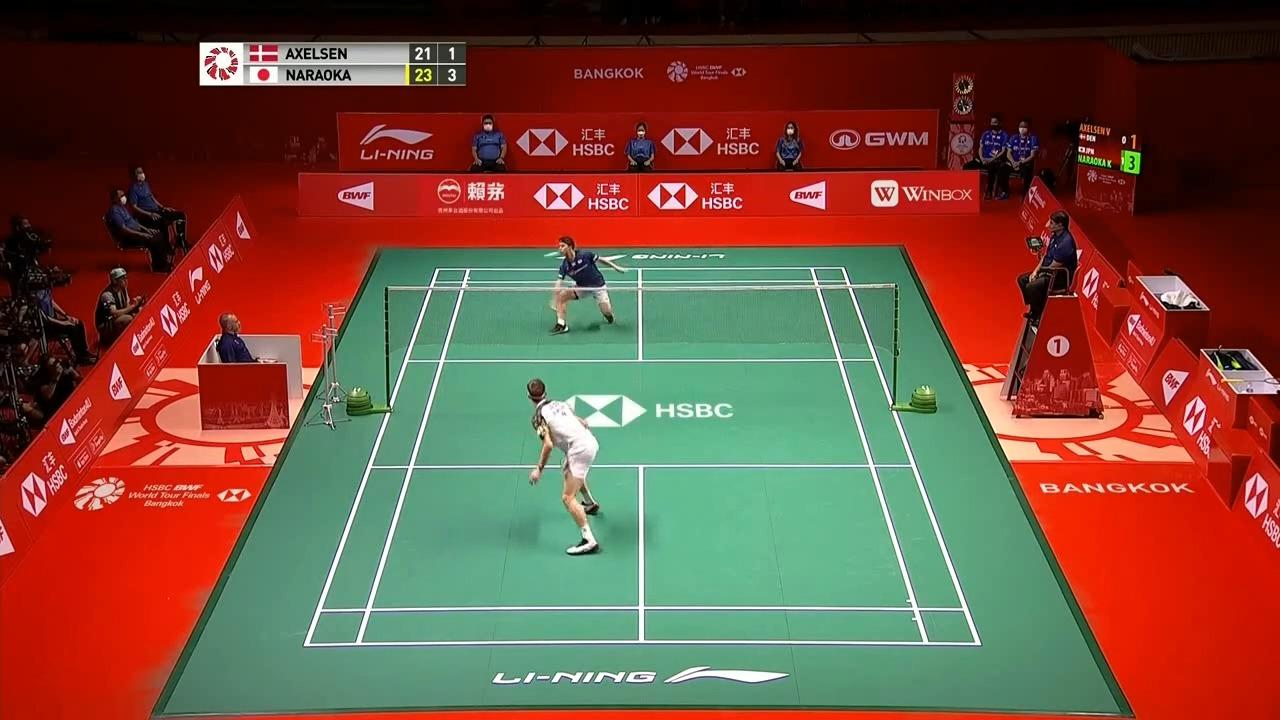shuttle: (541, 248, 562, 261)
